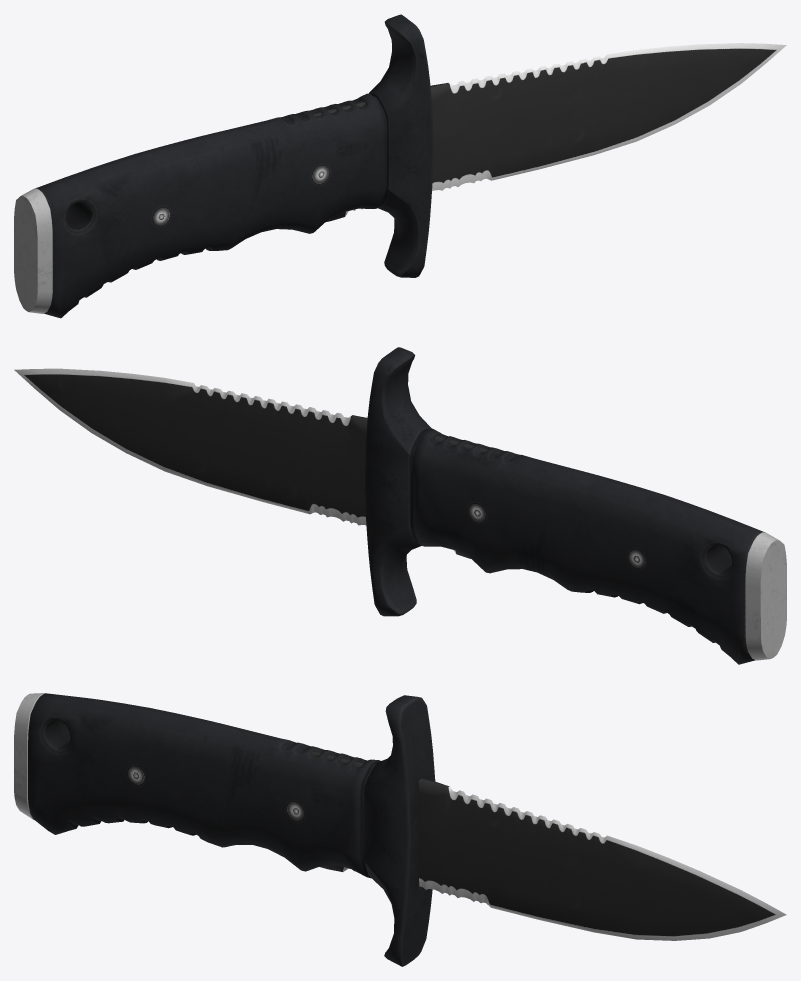
3 renders of one model, top to bottom at view 1: azimuth 30°, elevation 25°; view 2: azimuth 150°, elevation 25°; view 3: azimuth 330°, elevation 25°, orthographic. The views are drawn at different scales.
Parts seen in each view (by area): view 1: Mango_low, Hoja_low, culo_low; view 2: Mango_low, Hoja_low, culo_low; view 3: Mango_low, Hoja_low, culo_low.
Boxes of the visible parts, x1,y1,x2,y2 form: Mango_low: (35, 14, 433, 318); Hoja_low: (312, 43, 786, 221); culo_low: (14, 188, 52, 313); Mango_low: (364, 347, 764, 664); Hoja_low: (14, 368, 488, 558); culo_low: (745, 532, 786, 660); Mango_low: (28, 693, 435, 966); Hoja_low: (312, 751, 786, 940); culo_low: (14, 693, 44, 819).
Size of the model in its own units: 0.2832 by 0.0917 by 0.0205.
Materials: 1 (1 with a texture image).
